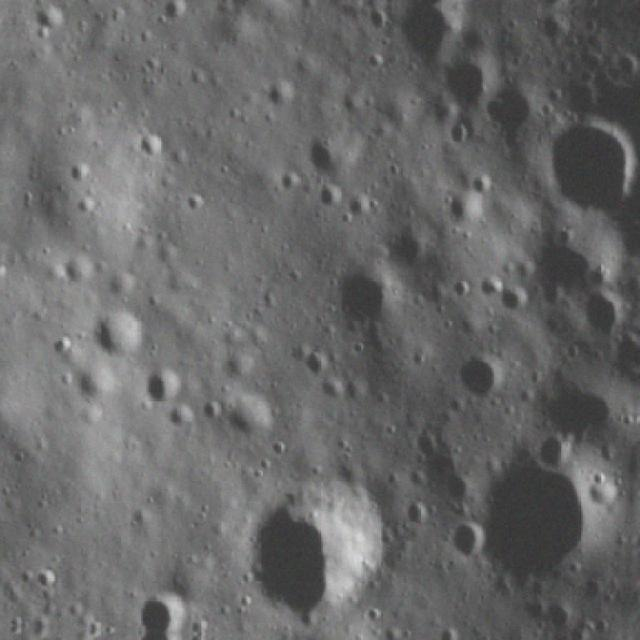crater: (462, 438, 608, 608), (241, 478, 393, 624), (535, 111, 640, 218), (538, 372, 618, 458), (329, 262, 403, 333), (389, 6, 468, 66), (450, 340, 508, 406), (483, 79, 540, 146), (439, 52, 498, 114), (86, 307, 151, 361), (222, 389, 282, 442), (574, 286, 628, 342), (383, 220, 440, 271), (136, 584, 187, 634), (303, 132, 354, 178), (531, 426, 578, 474), (445, 516, 489, 564), (145, 362, 189, 407), (437, 472, 481, 514), (442, 193, 487, 232), (24, 0, 68, 37), (315, 370, 354, 410), (344, 190, 381, 232), (584, 472, 618, 513), (262, 78, 300, 114), (496, 282, 533, 318), (406, 428, 442, 464), (130, 128, 168, 162), (301, 340, 333, 377), (314, 179, 346, 212), (404, 501, 433, 536), (197, 394, 226, 428), (31, 560, 60, 592), (157, 0, 192, 25), (433, 618, 469, 640), (468, 172, 494, 198)
